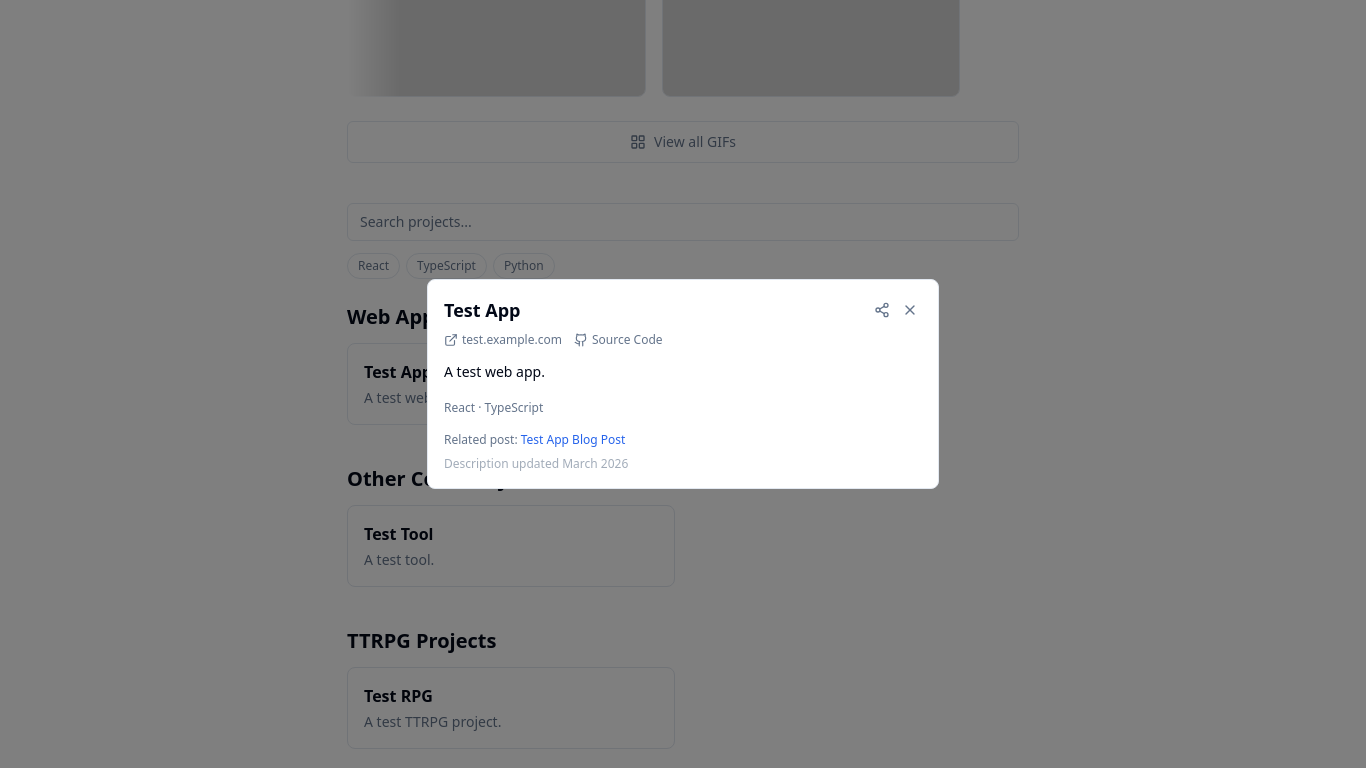
ProjectsPage › closes dialog and clears hash on close button click
(page scrolled)
Click the button named "close dialog": (910, 310) [898, 298, 922, 322]
(page scrolled)
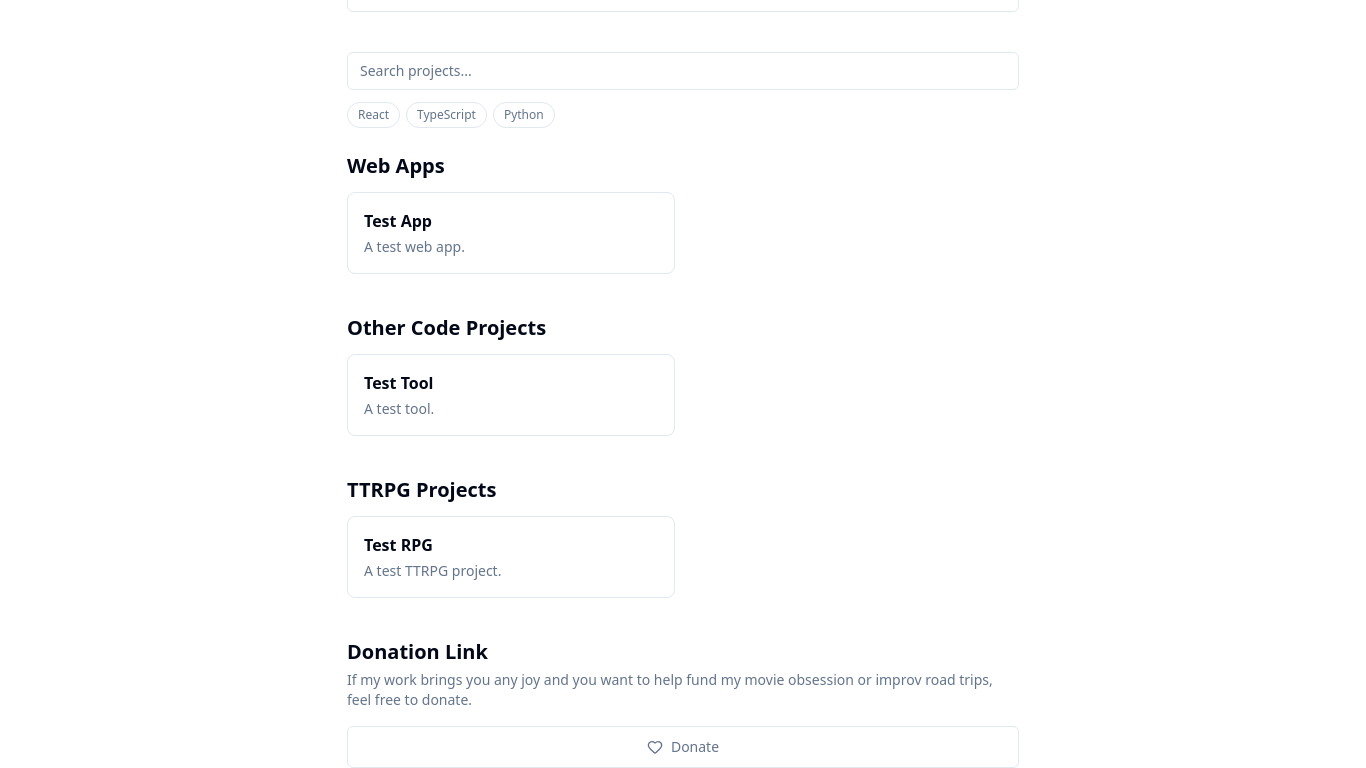
Result: the dialog is gone
